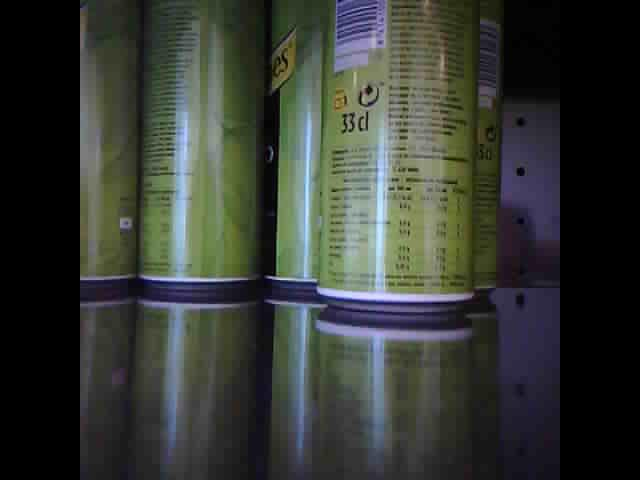schweppes: (314, 1, 477, 312), (137, 2, 257, 288), (263, 2, 322, 292), (80, 1, 137, 290), (474, 1, 507, 303)
